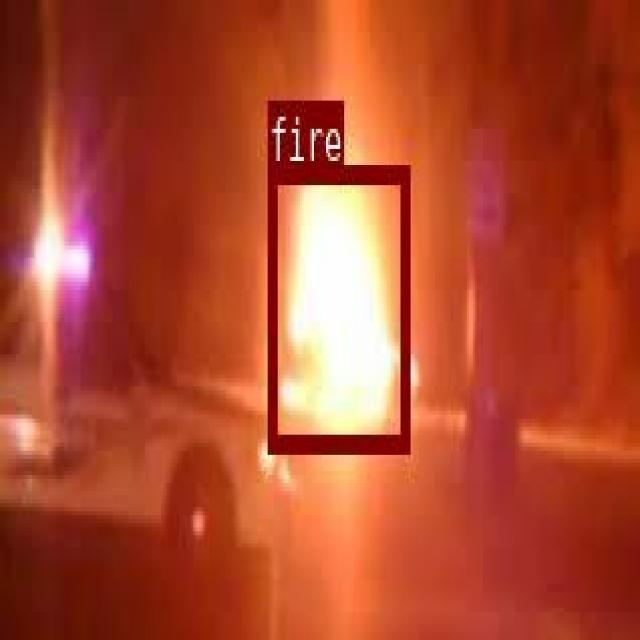fire: (267, 161, 408, 449)
